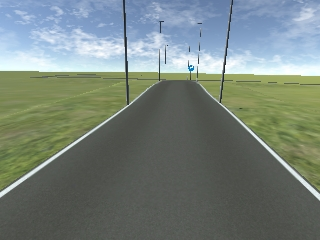right: (188, 65, 194, 71)
